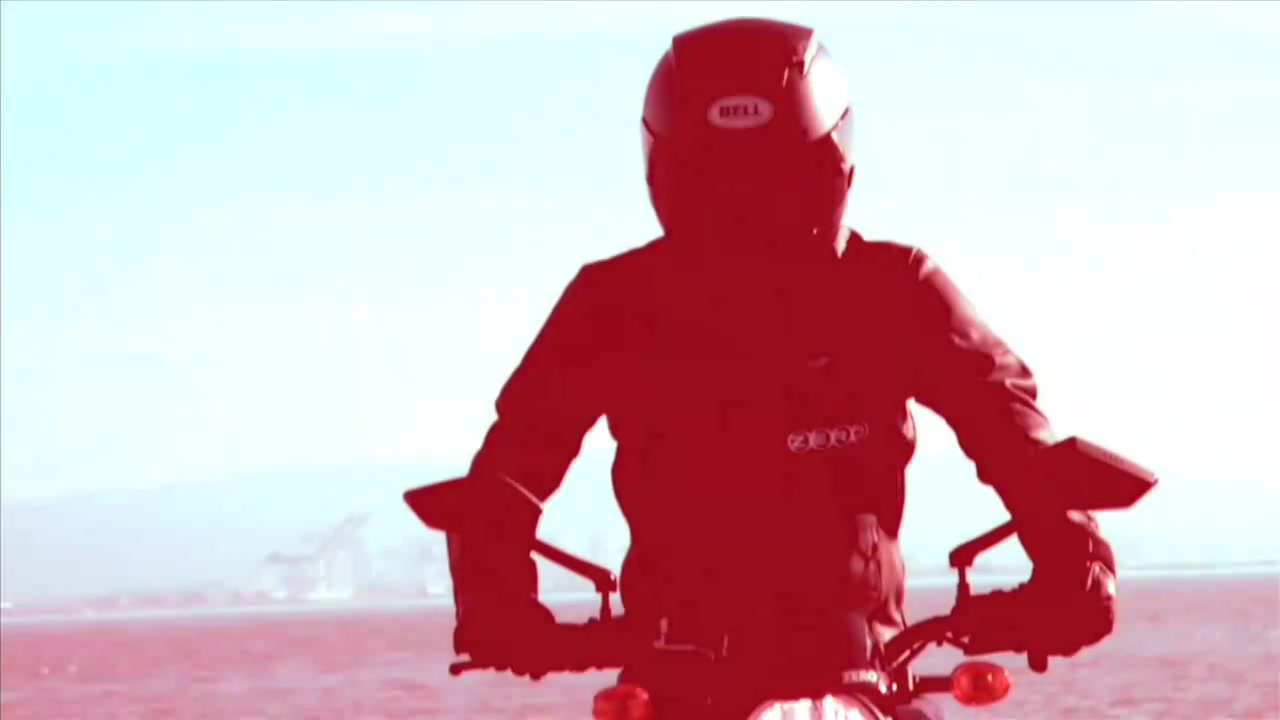motorbike: (401, 434, 1163, 720)
